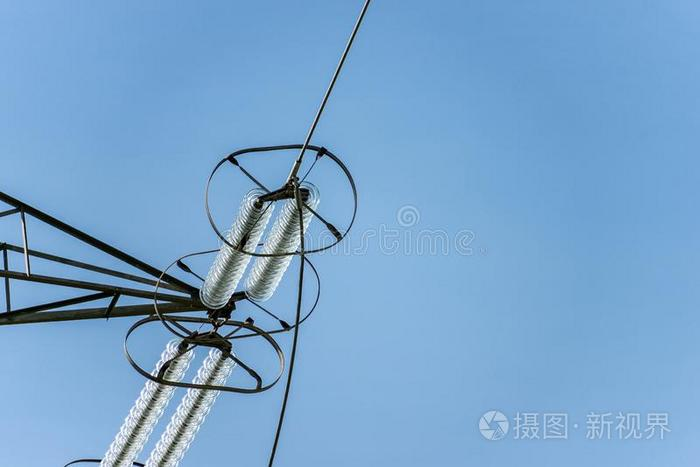insulator: (102, 335, 189, 467), (151, 345, 236, 465), (249, 179, 318, 302), (201, 187, 270, 309)
